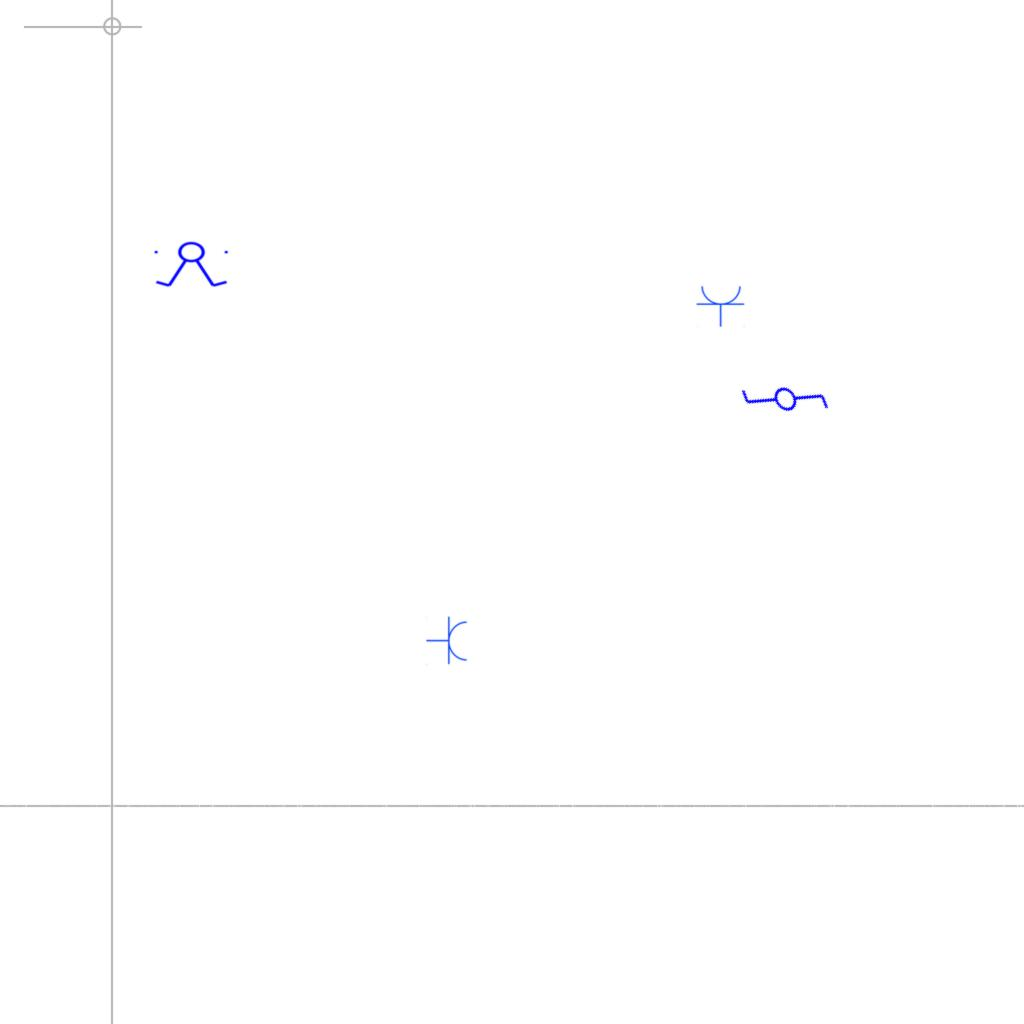Schukosteckdose_einfach: (696, 284, 746, 327), (426, 616, 469, 666)
Serienschalter: (150, 241, 234, 289)
Wechselschalter: (734, 350, 840, 456)
